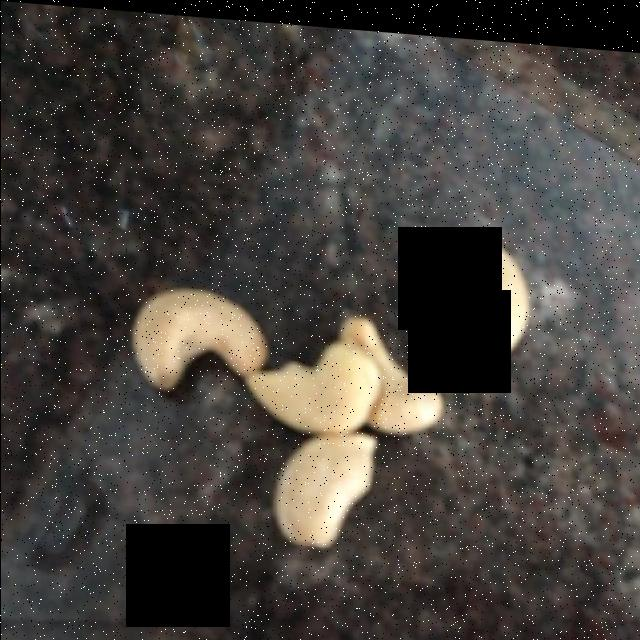cashew-nut: (137, 228, 522, 549)
